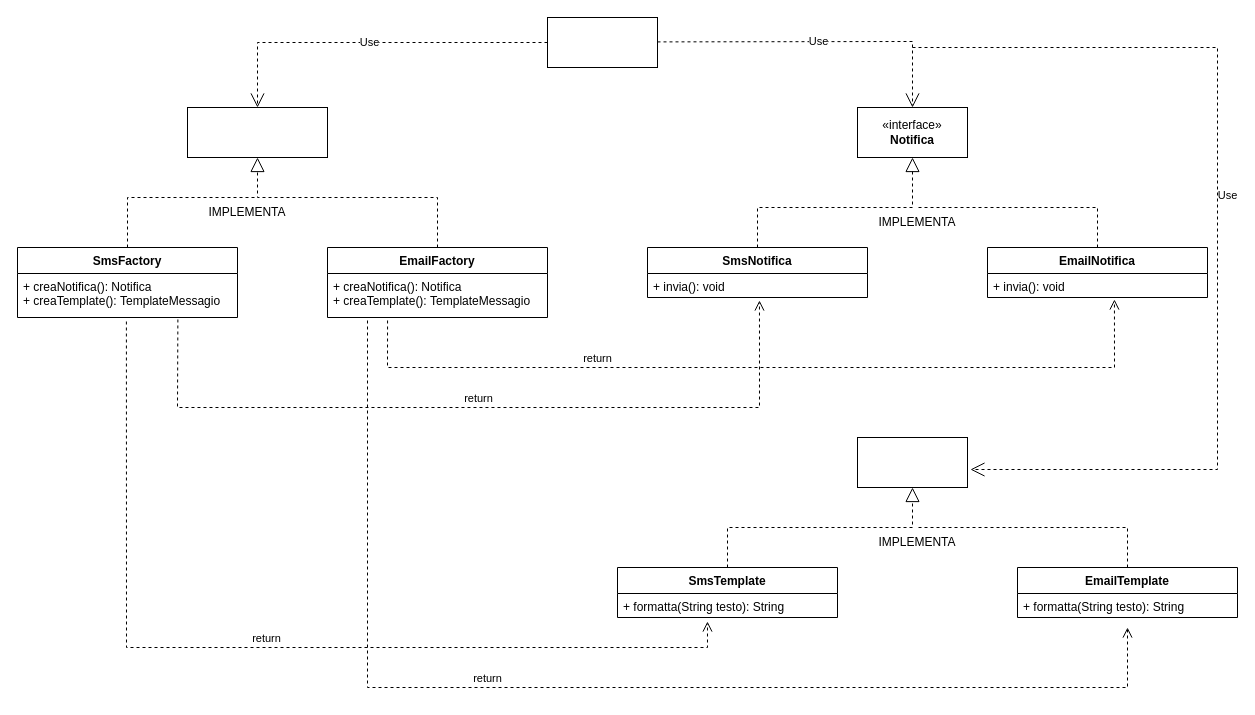
This 1255x715 diagram has some shape labels left out. Each missing label, with the centre of its shape:
CLIENT: point (602, 42)
«interface» NotificationFactory: point (257, 132)
«interface» TemplateMessage: point (912, 462)
